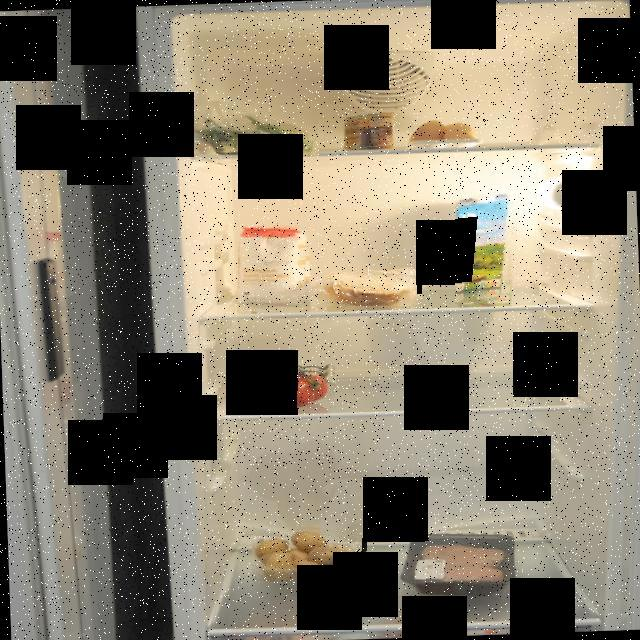bread: (326, 267, 422, 306)
chicken_breast: (411, 539, 512, 590)
corn: (341, 112, 396, 150)
eggs: (406, 117, 476, 149)
green_beans: (202, 108, 318, 156)
milk: (456, 194, 522, 306)
potato: (252, 522, 368, 582)
sugar: (238, 220, 310, 307)
tomato: (240, 364, 336, 408)
